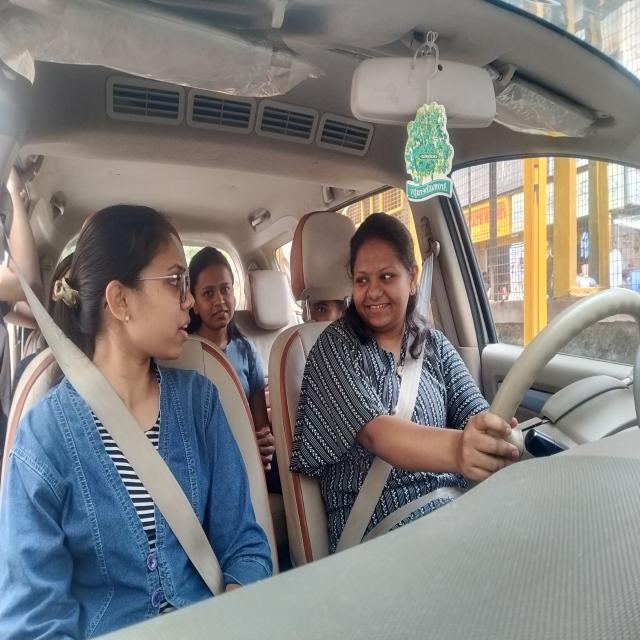LeftRight: (348, 215, 417, 331)
person: (65, 205, 194, 368), (188, 239, 242, 339), (299, 300, 354, 325)
talking: (364, 300, 394, 317), (178, 316, 195, 345)
